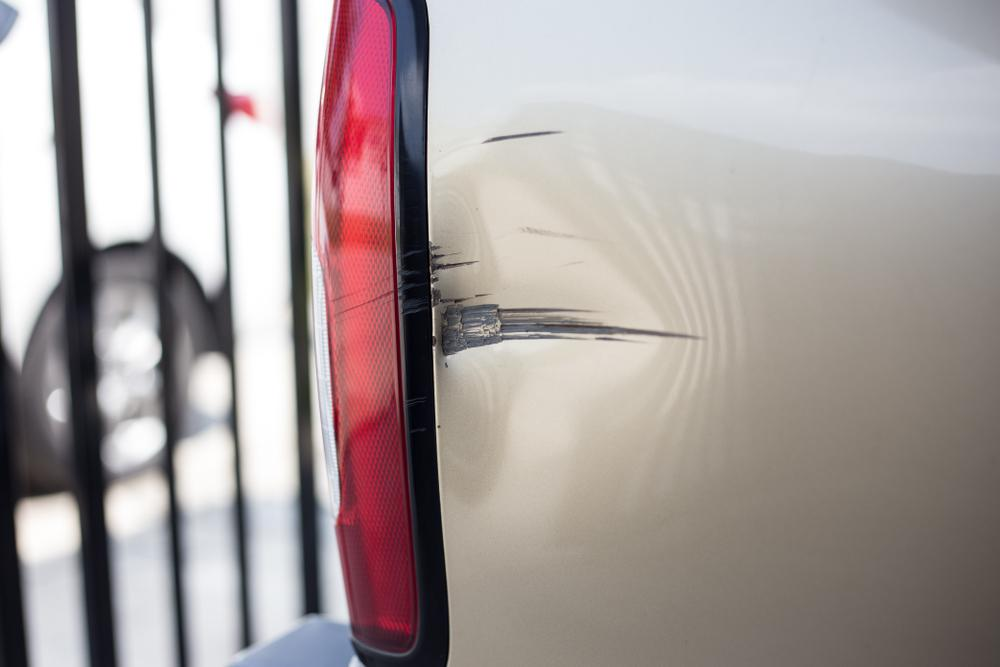dent: (428, 163, 662, 508)
